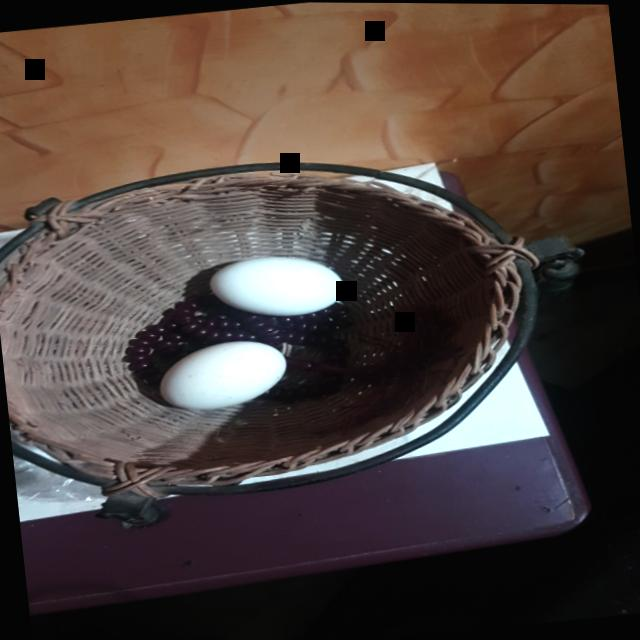eggs: (204, 240, 353, 322), (152, 335, 293, 417)
